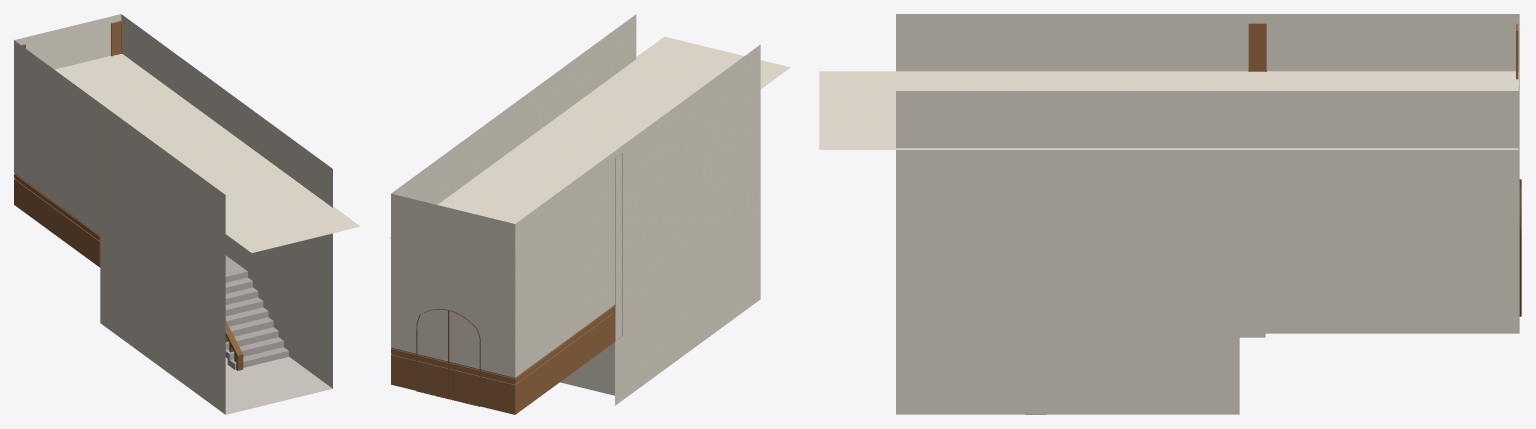
The model's file is corridor4.fbx.
3 renders of one model, left to right at view 1: azimuth 30°, elevation 25°; view 2: azimuth 150°, elevation 25°; view 3: azimuth 270°, elevation 25°, orthographic. The views are drawn at different scales.
Visible parts, largest first — view 1: corrodor4, Object195; view 2: corrodor4, Object195; view 3: corrodor4, Object195.
Part boxes in pixels (x1=…): corrodor4: x1=14, y1=14, x2=332, y2=414; Object195: x1=54, y1=54, x2=360, y2=252; corrodor4: x1=391, y1=14, x2=760, y2=414; Object195: x1=389, y1=36, x2=790, y2=238; corrodor4: x1=896, y1=14, x2=1521, y2=414; Object195: x1=819, y1=71, x2=1518, y2=149.
Size of the model in its own units: 5.54 by 20.94 by 10.66.
Materials: 1 (1 with a texture image).
